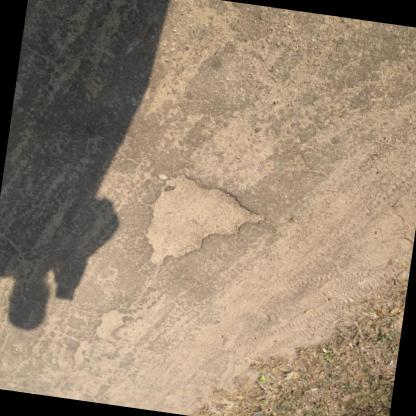pothole: (135, 170, 271, 284), (90, 307, 132, 344)
